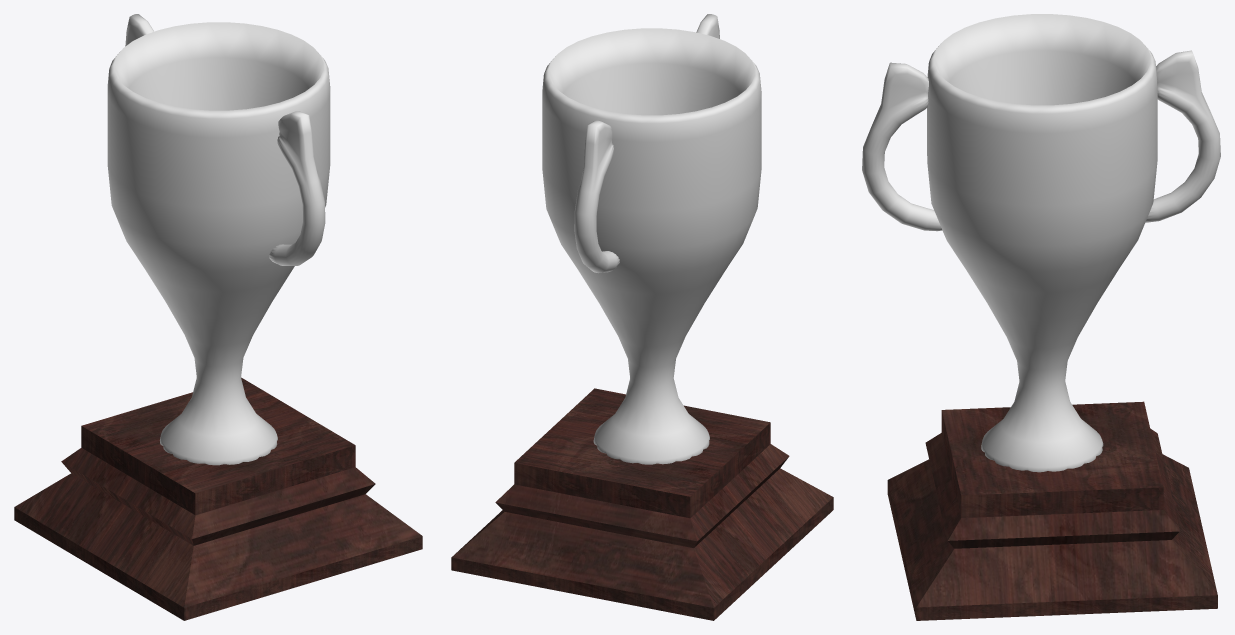
File: Cup2.fbx
The picture shows the model from 3 angles, left to right: view 1: azimuth 30°, elevation 25°; view 2: azimuth 150°, elevation 25°; view 3: azimuth 270°, elevation 25°; orthographic projection. The views are drawn at different scales.
Visible parts, largest first — view 1: кубок009, Cup2; view 2: кубок009, Cup2; view 3: кубок009, Cup2.
Part boxes in pixels (bbox=[...]): кубок009: bbox=[107, 14, 330, 465]; Cup2: bbox=[14, 377, 422, 620]; кубок009: bbox=[542, 14, 761, 464]; Cup2: bbox=[451, 388, 833, 620]; кубок009: bbox=[862, 14, 1220, 472]; Cup2: bbox=[887, 401, 1217, 620].
Size of the model in its own units: 119 by 196 by 130.
Materials: 1 (1 with a texture image).
